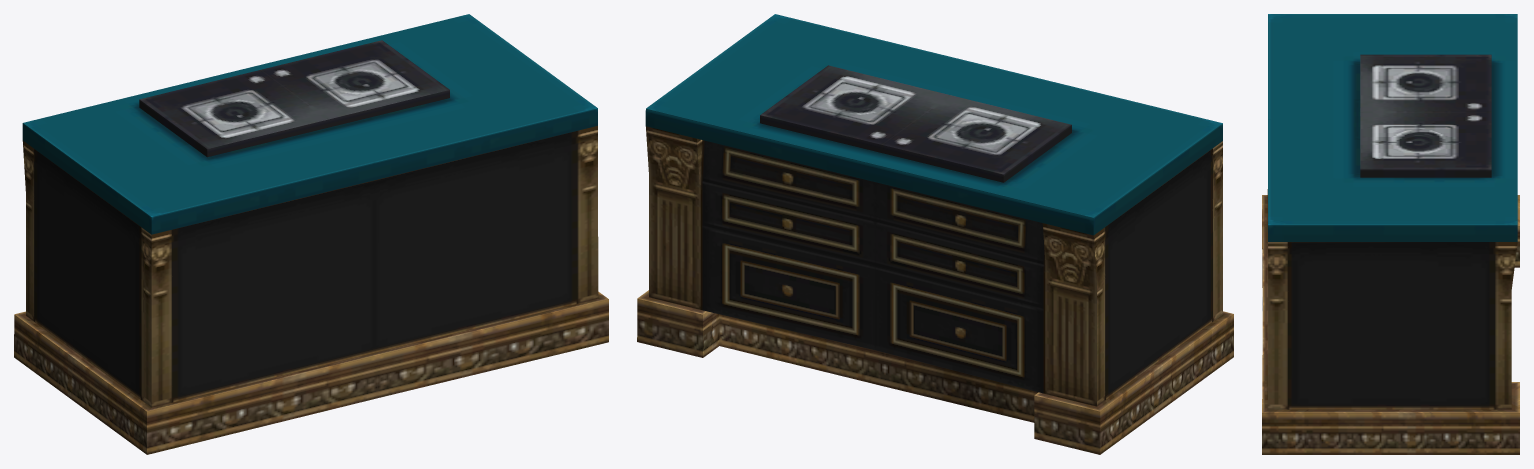
File: furni_0200319_02.FBX
The picture shows the model from 3 angles, left to right: view 1: azimuth 30°, elevation 25°; view 2: azimuth 150°, elevation 25°; view 3: azimuth 270°, elevation 25°; orthographic projection. The views are drawn at different scales.
Visible parts, largest first — view 1: furni_0200319_02; view 2: furni_0200319_02; view 3: furni_0200319_02.
Boxes of the visible parts, bbox=[...] form: furni_0200319_02: bbox=[14, 14, 608, 454]; furni_0200319_02: bbox=[637, 14, 1233, 454]; furni_0200319_02: bbox=[1262, 14, 1519, 454].
Size of the model in its own units: 165 by 82.8 by 82.62.
